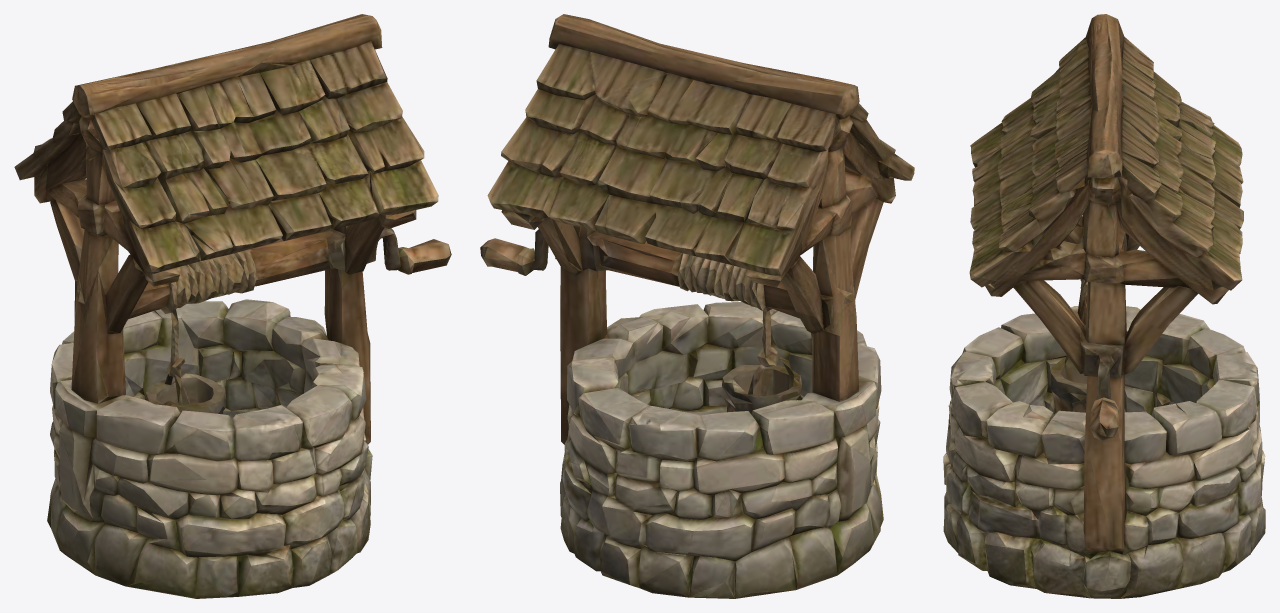
The model's file is well.glb.
The picture shows the model from 3 angles, left to right: view 1: azimuth 30°, elevation 25°; view 2: azimuth 150°, elevation 25°; view 3: azimuth 270°, elevation 25°; orthographic projection. The views are drawn at different scales.
Parts seen in each view (by area): view 1: well; view 2: well; view 3: well.
Boxes of the visible parts, x1,y1,x2,y2 form: well: (14, 14, 451, 598); well: (480, 14, 914, 598); well: (943, 14, 1265, 598).
Size of the model in its own units: 2.87 by 3.4 by 2.16.
1 material, 1 textured.
